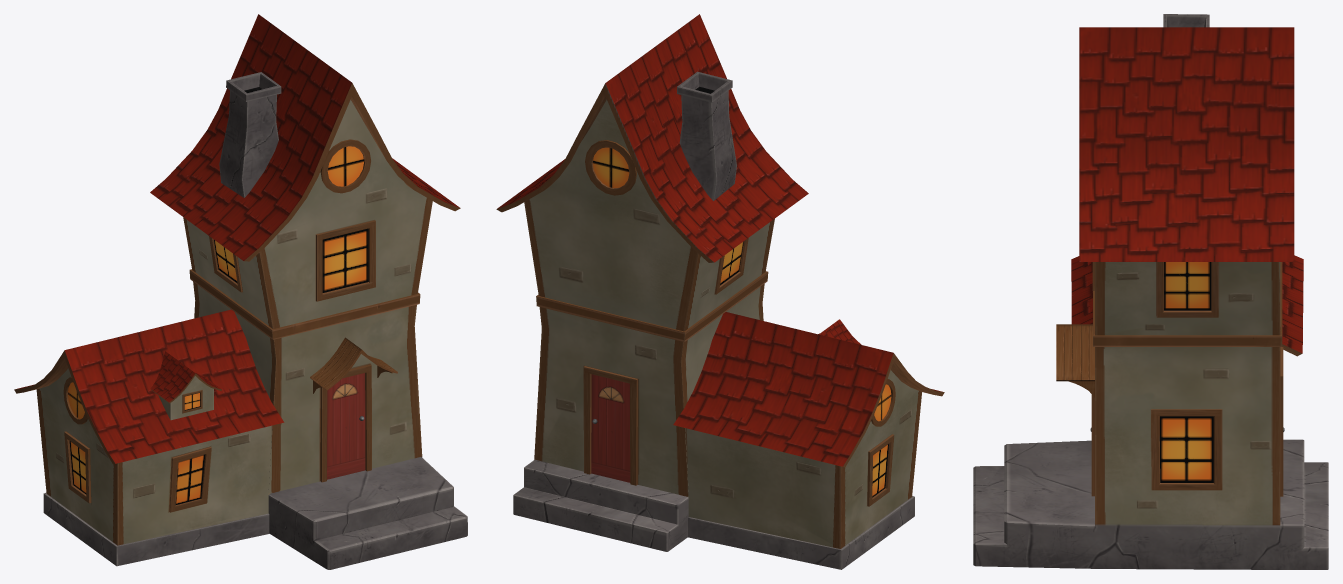
Rendered from stylized_house_OBJ.obj.
3 renders of one model, left to right at view 1: azimuth 30°, elevation 25°; view 2: azimuth 150°, elevation 25°; view 3: azimuth 270°, elevation 25°, orthographic. The views are drawn at different scales.
Visible parts, largest first — view 1: house; view 2: house; view 3: house.
Boxes of the visible parts, x1=… form: house: x1=14, y1=14, x2=467, y2=569; house: x1=496, y1=14, x2=944, y2=569; house: x1=973, y1=14, x2=1328, y2=569.
Size of the model in its own units: 14.62 by 17.49 by 11.28.
1 material, 1 textured.
